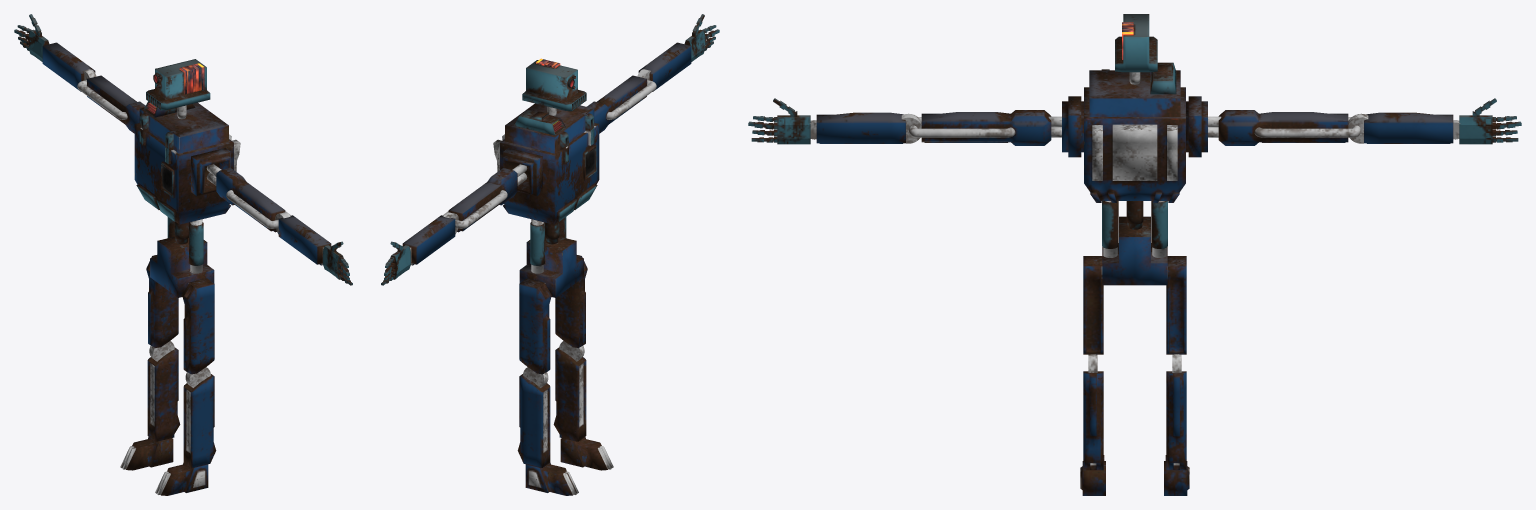
File: Bot.fbx
3 renders of one model, left to right at view 1: azimuth 30°, elevation 25°; view 2: azimuth 150°, elevation 25°; view 3: azimuth 270°, elevation 25°, orthographic. The views are drawn at different scales.
Parts seen in each view (by area): view 1: Cylinder.149; view 2: Cylinder.149; view 3: Cylinder.149.
Part boxes in pixels (bbox=[...]): Cylinder.149: bbox=[14, 14, 352, 495]; Cylinder.149: bbox=[381, 14, 719, 495]; Cylinder.149: bbox=[748, 14, 1521, 495].
Size of the model in its own units: 155 by 723 by 1078.
